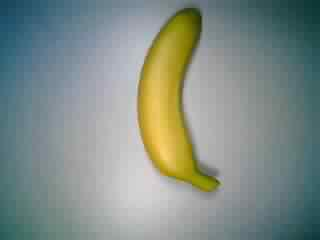banana: (134, 4, 227, 192)
